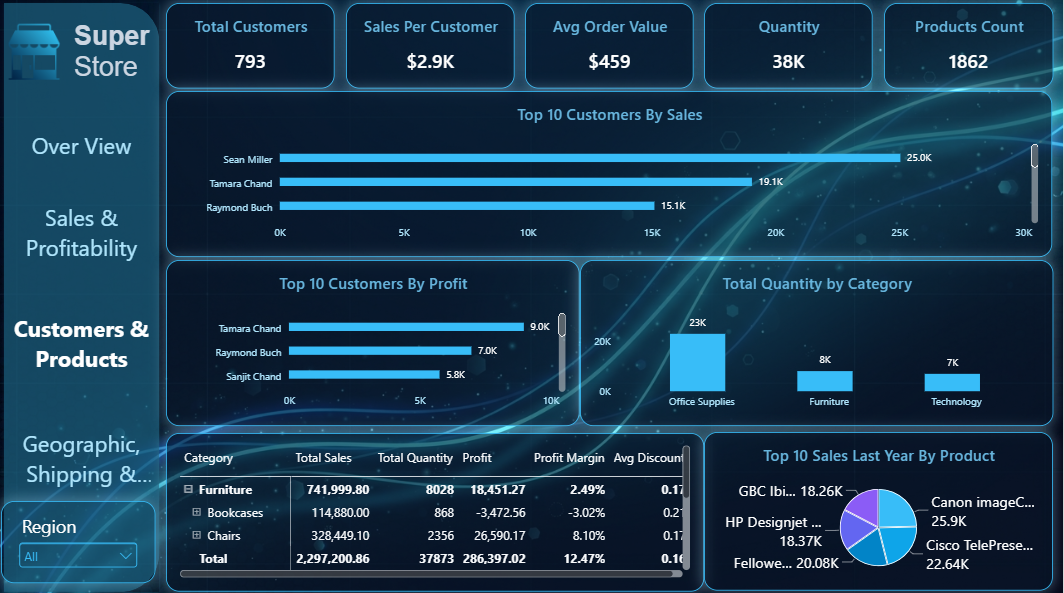

Layout of this report page (visuals, bound fields, positions):
{"tool":"powerbi","page":{"name":"Customers & Products","canvas":[1280,720],"ordinal":3},"visuals":[{"type":"group","id":"g1","title":"Group 2","box":[3.2,7.2,191.4,709.4],"z":0},{"type":"group","id":"g2","title":"Group 1","box":[5.2,7.2,187.4,709.4],"z":0,"group":"g1"},{"type":"shape","box":[5.2,7.2,187.4,709.4],"z":0,"group":"g2"},{"type":"card","title":"Total Customers","fields":{"Values":["Measures (2).Total Customer"]},"box":[201.2,6.9,203.1,103],"z":1000},{"type":"textbox","box":[89.6,28.7,103,81.5],"z":1000,"group":"g2"},{"type":"actionButton","title":"Over View","box":[3.2,153.9,191.4,47.9],"z":1000,"group":"g1"},{"type":"card","title":"Sales Per Customer","fields":{"Values":["Measures (2).Sales Per Customer"]},"box":[417.2,6.9,203.1,103],"z":2000},{"type":"image","box":[6.6,28.7,70.1,72.9],"z":2000,"group":"g2"},{"type":"actionButton","box":[3.2,239.9,191.4,88.9],"z":2000,"group":"g1"},{"type":"card","title":"Products Count ","fields":{"Values":["Measures (2).Products Count"]},"box":[1065.3,6.9,203.7,103.2],"z":3000},{"type":"actionButton","box":[3.2,366.9,191.4,100.8],"z":3000,"group":"g1"},{"type":"card","title":"Quantity","fields":{"Values":["Measures (2).Total Quantity"]},"box":[849.3,6.9,203.1,103],"z":4000},{"type":"actionButton","box":[3.2,505.9,191.4,100.8],"z":4000,"group":"g1"},{"type":"card","title":"Avg Order Value","fields":{"Values":["Measures (2).Avg Orders Value"]},"box":[633.3,6.9,203.1,103],"z":5000},{"type":"clusteredBarChart","title":"Top 10 Customers By Sales","fields":{"Category":["Fact_Orders.Customer Name"],"Y":["Measures (2).Total Sales"]},"box":[201.6,112.8,1067.1,200.2],"z":6000},{"type":"barChart","title":"Top 10 Customers By Profit","fields":{"Category":["Fact_Orders.Customer Name"],"Y":["Measures (2).Profit"]},"box":[201,316.6,498,199.7],"z":7000},{"type":"columnChart","fields":{"Category":["Fact_Orders.Category"],"Y":["Measures (2).Total Quantity"]},"box":[699,317,570,200],"z":8000},{"type":"pivotTable","fields":{"Rows":["Fact_Orders.Category","Fact_Orders.Sub-Category","Fact_Orders.Product Name"],"Values":["Measures (2).Total Sales","Measures (2).Total Quantity","Measures (2).Profit","Measures (2).Profit Margin","Measures (2).Avg Discount"]},"box":[200.9,524.4,648.3,191.3],"z":9000},{"type":"pieChart","title":"Top 10 Sales Last Year By Product","fields":{"Category":["Fact_Orders.Product Name"],"Y":["Measures (2).Sales LY"]},"box":[849,524,420,191],"z":10000},{"type":"slicer","fields":{"Values":["Fact_Orders.Region"]},"box":[2.8,607,185.8,99.1],"z":10001}]}

Visuals, with their boxes in screenshot pixels (x1, y1, x2, y2), scaled from the page's 1280x720 canvas onto the 1064x593 screenshot:
"Group 2" group: detection(3, 6, 162, 590)
"Group 1" group: detection(4, 6, 160, 590)
shape: detection(4, 6, 160, 590)
"Total Customers" card: detection(167, 6, 336, 91)
textbox: detection(74, 24, 160, 91)
"Over View" actionButton: detection(3, 127, 162, 166)
"Sales Per Customer" card: detection(347, 6, 516, 91)
image: detection(5, 24, 64, 84)
actionButton: detection(3, 198, 162, 271)
"Products Count " card: detection(886, 6, 1055, 91)
actionButton: detection(3, 302, 162, 385)
"Quantity" card: detection(706, 6, 875, 91)
actionButton: detection(3, 417, 162, 500)
"Avg Order Value" card: detection(526, 6, 695, 91)
"Top 10 Customers By Sales" clusteredBarChart: detection(168, 93, 1055, 258)
"Top 10 Customers By Profit" barChart: detection(167, 261, 581, 425)
columnChart - Fact_Orders.Category x Measures (2).Total Quantity: detection(581, 261, 1055, 426)
pivotTable - Fact_Orders.Category x Fact_Orders.Sub-Category: detection(167, 432, 706, 589)
"Top 10 Sales Last Year By Product" pieChart: detection(706, 432, 1055, 589)
slicer - Fact_Orders.Region: detection(2, 500, 157, 582)
